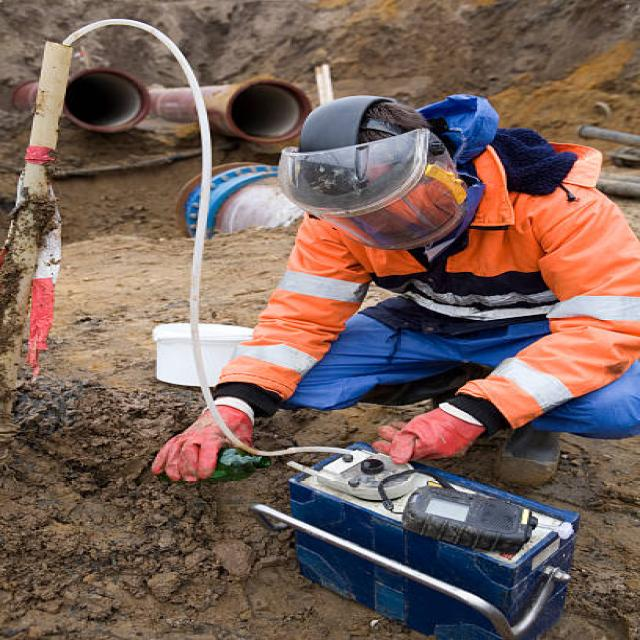gloves: (152, 403, 253, 482), (378, 405, 483, 463)
